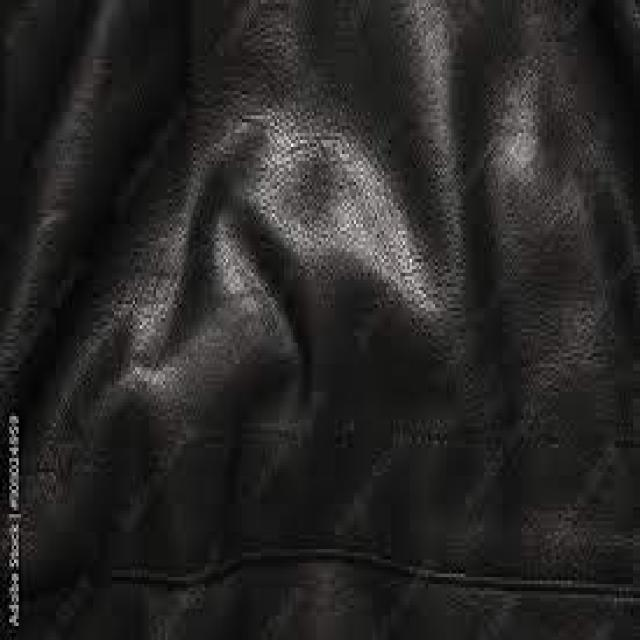Crease: (105, 256, 321, 556), (255, 132, 425, 422), (408, 31, 517, 315)
